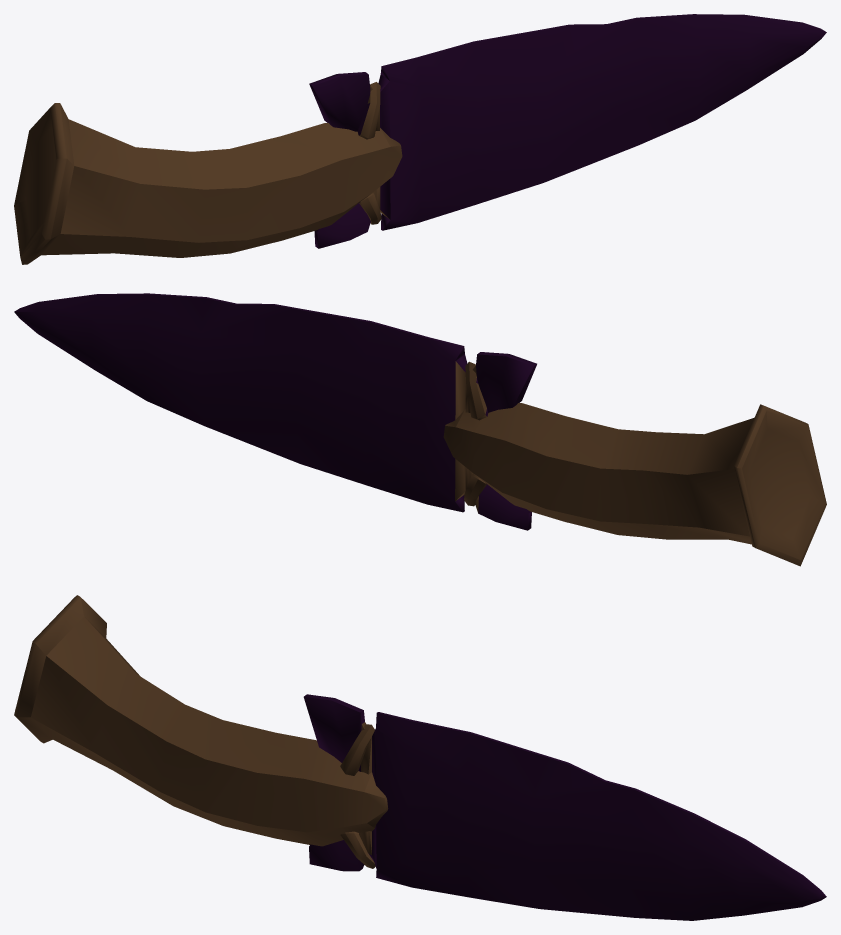
The model's file is ObsidianKnife.fbx.
3 views of the same model, one above another, from view 1: azimuth 30°, elevation 25°; view 2: azimuth 150°, elevation 25°; view 3: azimuth 330°, elevation 25° (orthographic).
Visible parts, largest first — view 1: defaultMaterial; view 2: defaultMaterial; view 3: defaultMaterial.
Part boxes in pixels (x1,y1,x2,y2): defaultMaterial: (14, 14, 826, 264); defaultMaterial: (14, 293, 826, 566); defaultMaterial: (14, 595, 826, 920).
Size of the model in its own units: 11931 by 2782 by 1527.
